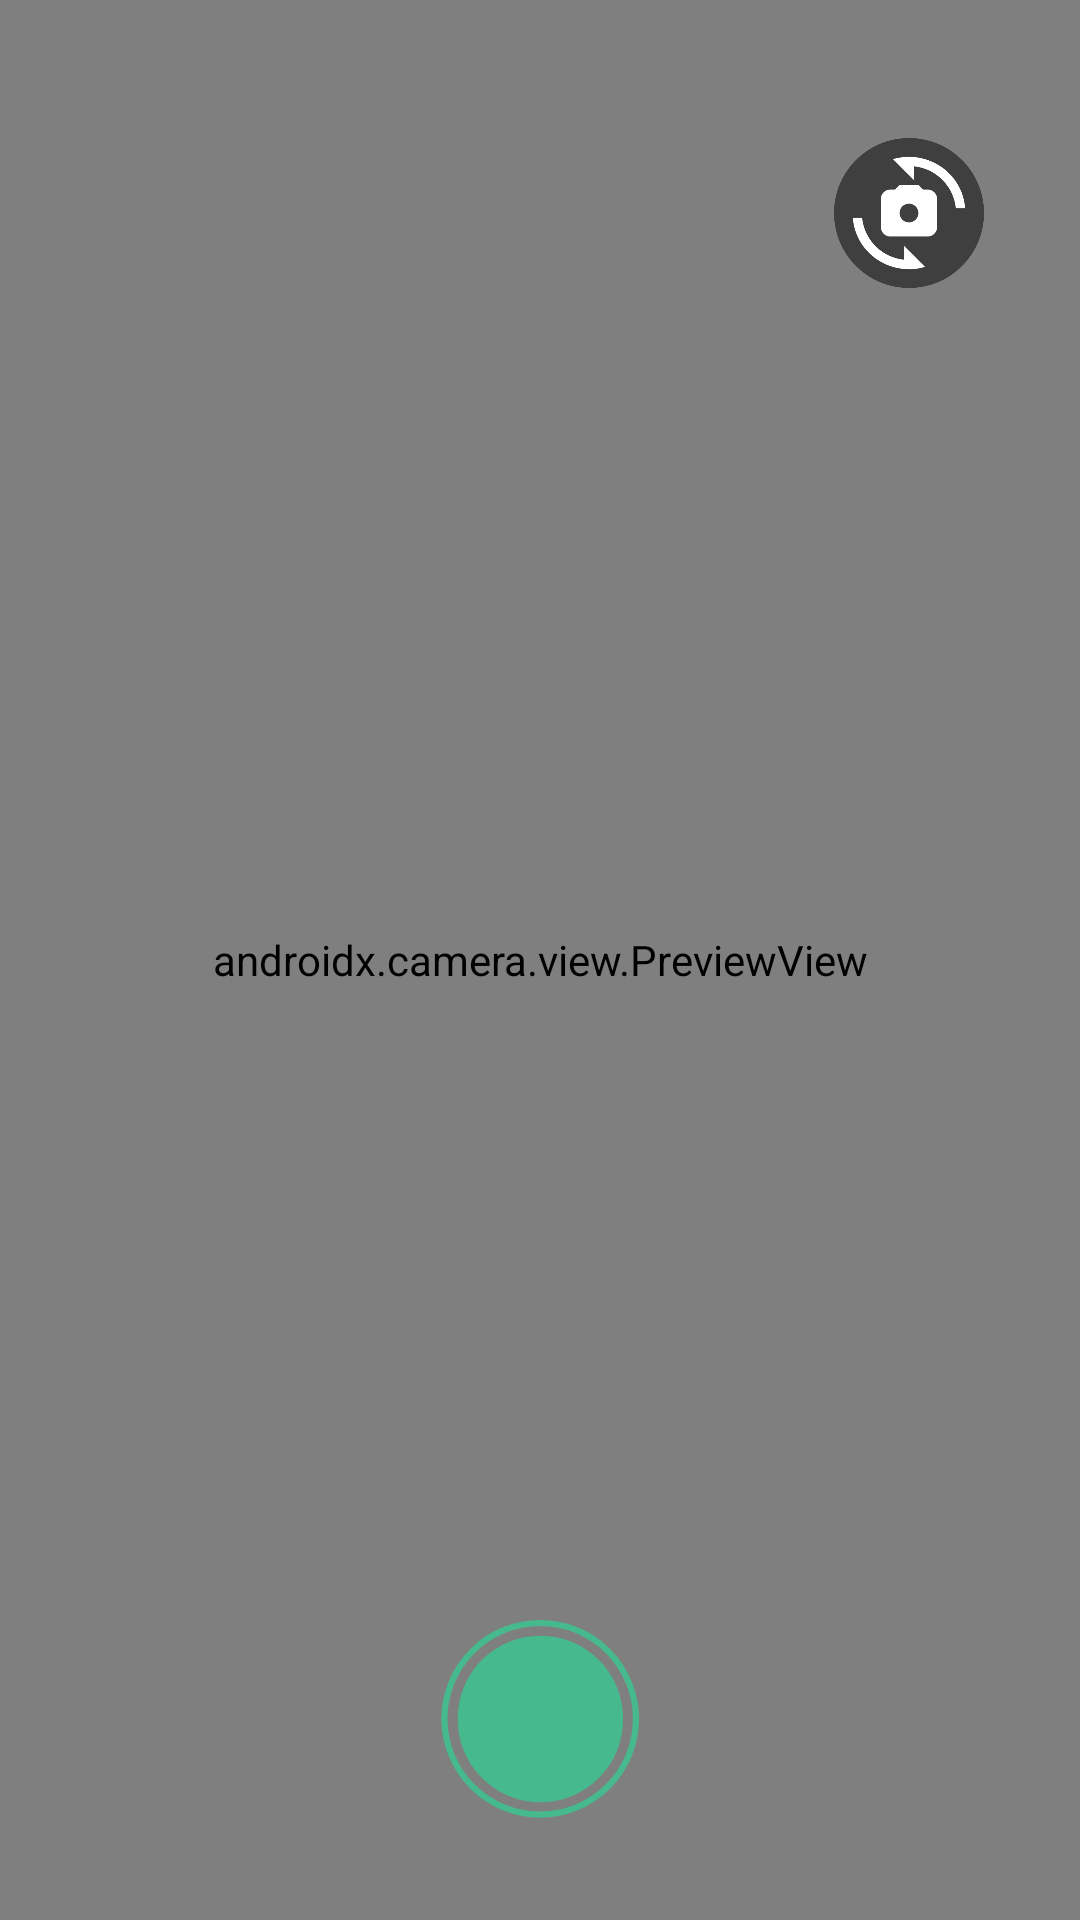

Icon click points for this 1080px×1920px phone screenshot, format [x,y]:
buttoncamera: [540,1719]
cameraswitch: [909,213]
